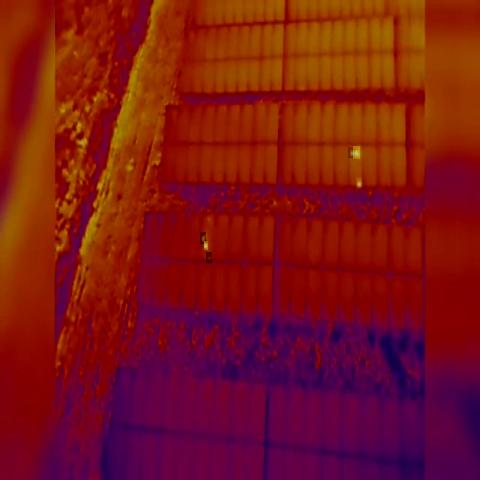fault: (353, 146, 360, 159), (356, 178, 362, 190), (200, 232, 206, 244), (348, 147, 354, 158), (206, 252, 212, 263), (204, 241, 208, 250)
